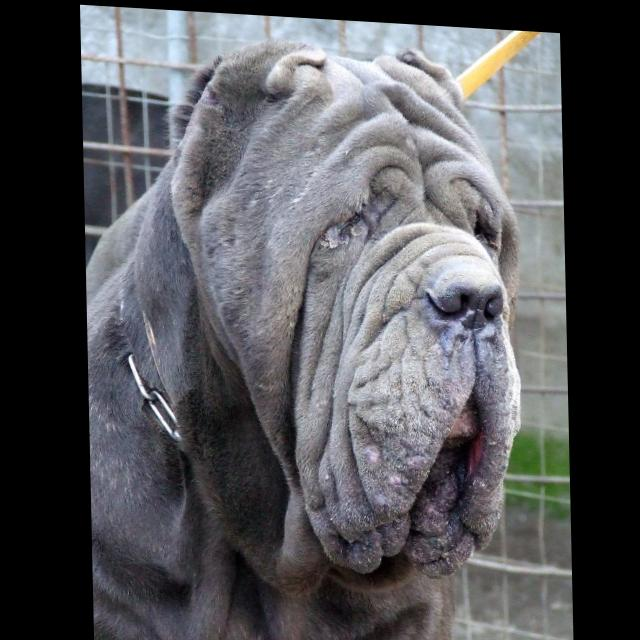mastino_napoletano: (82, 25, 530, 640)
